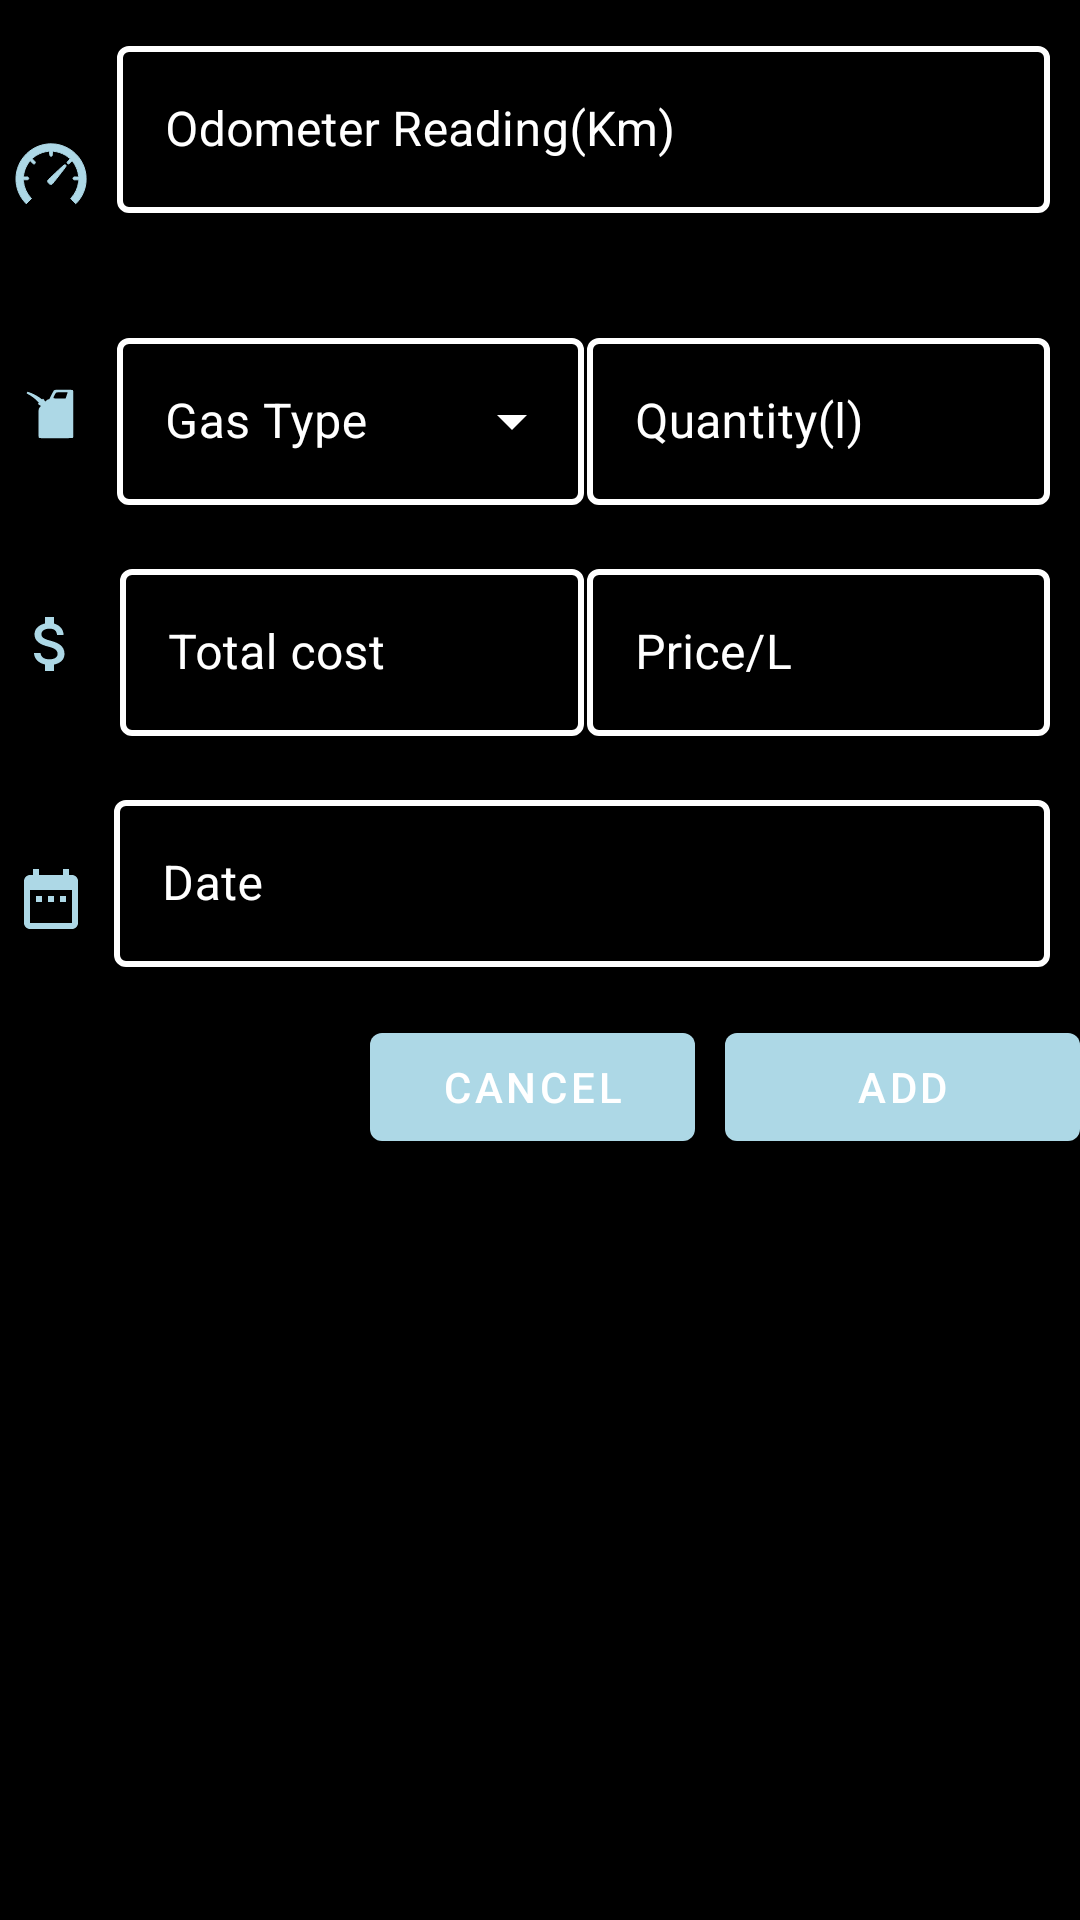

Named icons in this screenshot (1080w x 1920h) and their centers, [x,y]:
fueltank: [50,414]
price: [49,644]
